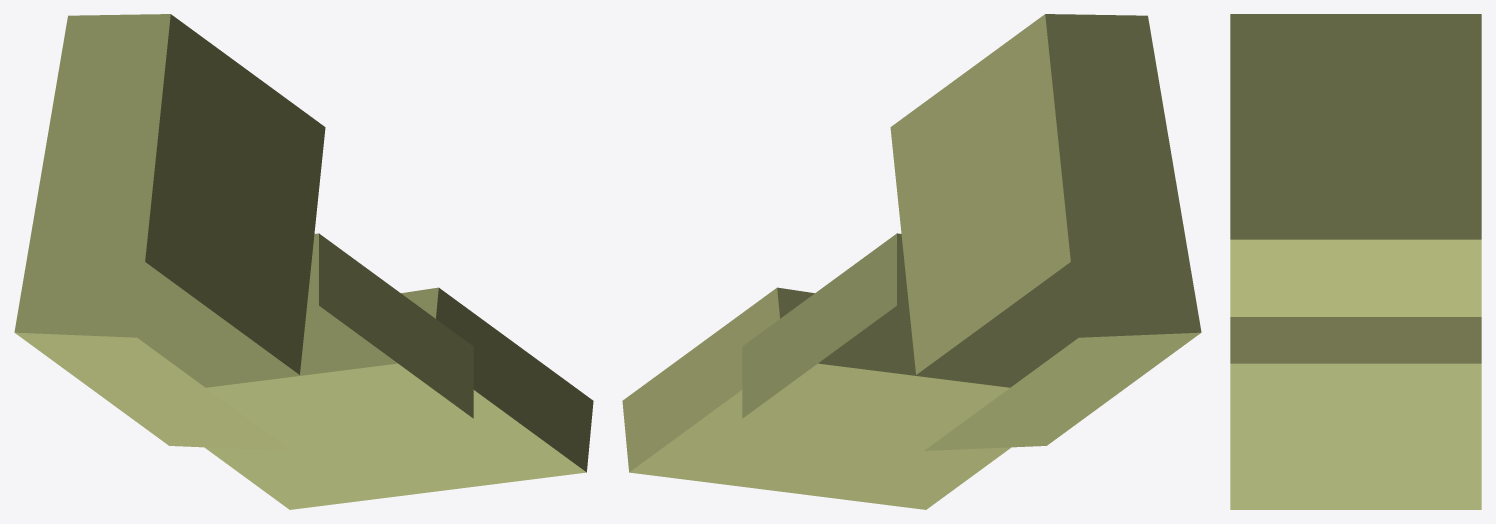
The picture shows the model from 3 angles, left to right: view 1: azimuth 30°, elevation 25°; view 2: azimuth 150°, elevation 25°; view 3: azimuth 270°, elevation 25°; orthographic projection. The views are drawn at different scales.
Visible parts, largest first — view 1: 0_0_1_2_0_0_0_2_2_1_0; view 2: 0_0_1_2_0_0_0_2_2_1_0; view 3: 0_0_1_2_0_0_0_2_2_1_0.
Boxes of the visible parts, box(x1,y1,x2,y2) form: 0_0_1_2_0_0_0_2_2_1_0: box(14, 14, 593, 509); 0_0_1_2_0_0_0_2_2_1_0: box(622, 14, 1201, 509); 0_0_1_2_0_0_0_2_2_1_0: box(1230, 14, 1481, 509).
Bounding box in the file's own units: 9.5 × 9.25 × 6.
